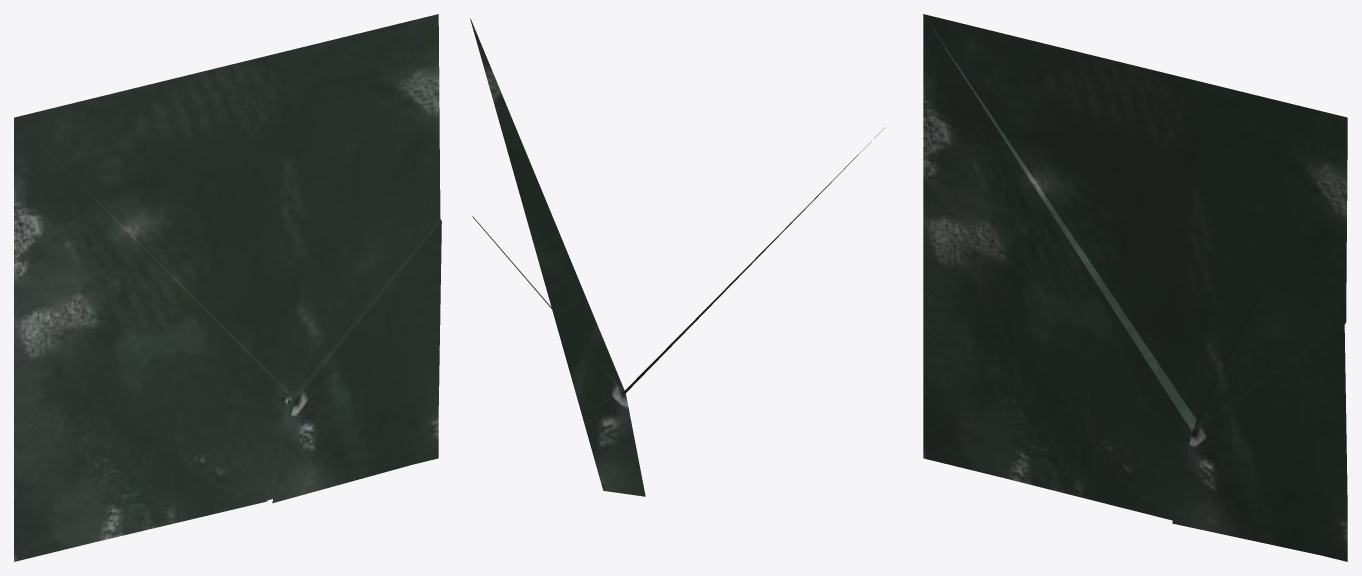
File: Tile_+038_+017_L17_0002.glb
The picture shows the model from 3 angles, left to right: view 1: azimuth 30°, elevation 25°; view 2: azimuth 150°, elevation 25°; view 3: azimuth 330°, elevation 25°; orthographic projection.
Size of the model in its own units: 126 by 126 by 2.91.
1 material, 1 textured.
